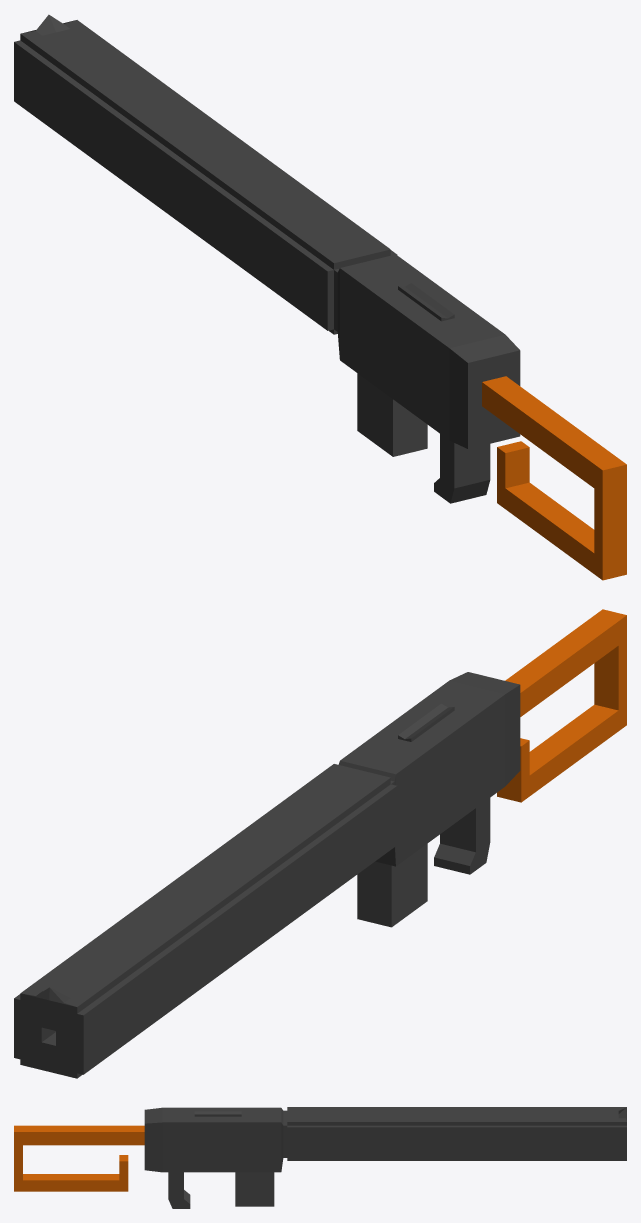
Rendered from VAL.fbx.
3 renders of one model, top to bottom at view 1: azimuth 30°, elevation 25°; view 2: azimuth 150°, elevation 25°; view 3: azimuth 270°, elevation 25°, orthographic. The views are drawn at different scales.
Visible parts, largest first — view 1: Cube; view 2: Cube; view 3: Cube.
Part boxes in pixels (x1,y1,x2,y2): Cube: (14,14,626,580); Cube: (14,609,626,1078); Cube: (14,1107,626,1208).
Bounding box in the file's own units: 10.93 × 26.74 × 154.
